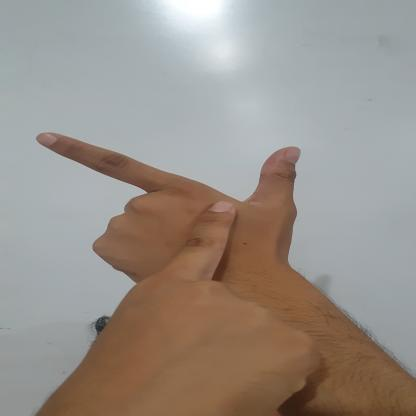Y: (34, 129, 302, 330)
